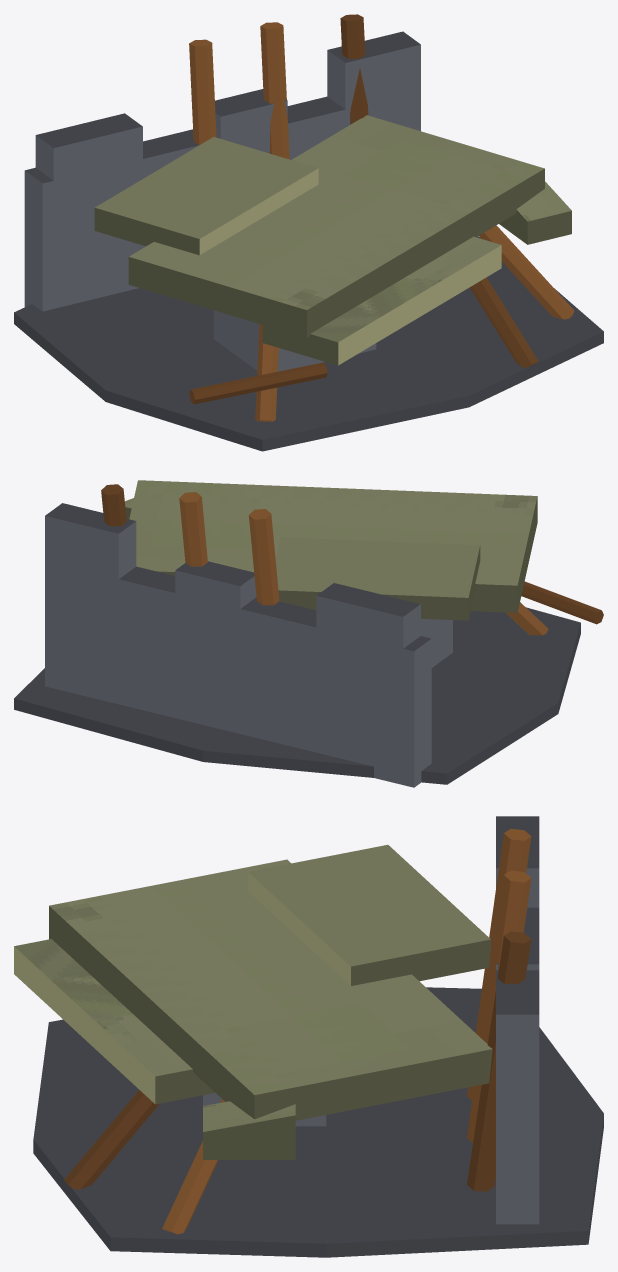
File: Building_ShipChunk__C.glb
The picture shows the model from 3 angles, top to bottom: view 1: azimuth 30°, elevation 25°; view 2: azimuth 150°, elevation 25°; view 3: azimuth 270°, elevation 25°; orthographic projection. The views are drawn at different scales.
Visible parts, largest first — view 1: ShipChunk__C; view 2: ShipChunk__C; view 3: ShipChunk__C.
Part boxes in pixels (x1,y1,x2,y2): ShipChunk__C: (14,14,603,451); ShipChunk__C: (14,480,603,787); ShipChunk__C: (14,816,603,1257).
Bounding box in the file's own units: 2 × 1.01 × 1.91.
Materials: 1 (1 with a texture image).
